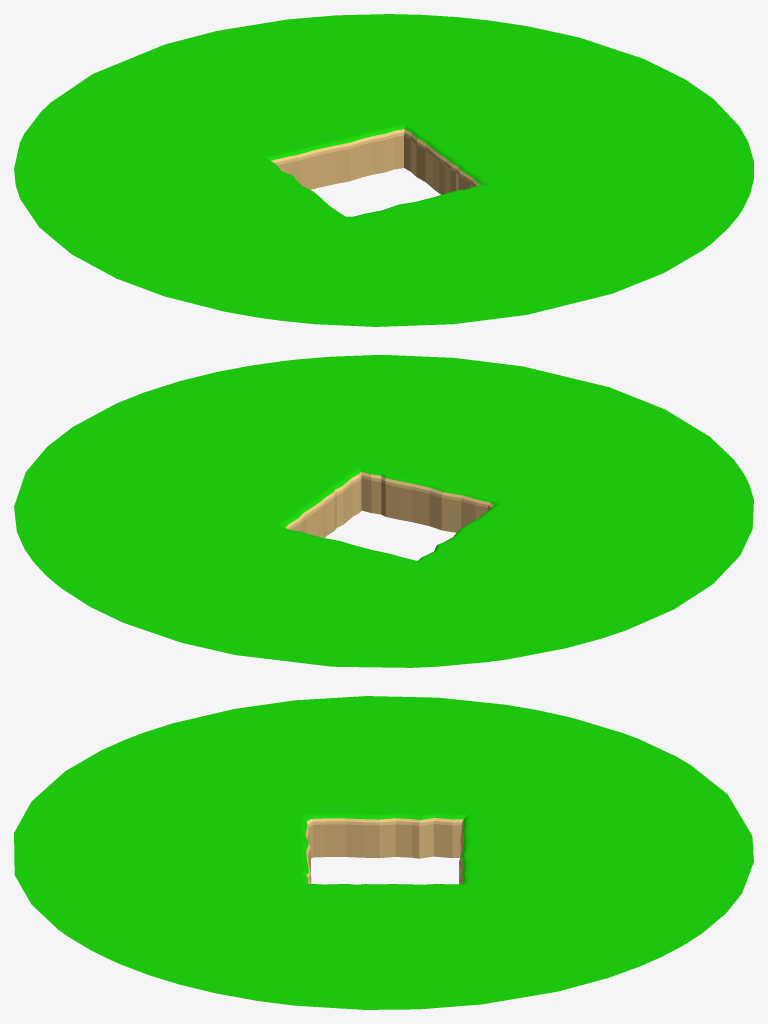
File: Klippen test.fbx
The picture shows the model from 3 angles, top to bottom: view 1: azimuth 30°, elevation 25°; view 2: azimuth 150°, elevation 25°; view 3: azimuth 270°, elevation 25°; orthographic projection.
Visible parts, largest first — view 1: Plane.001; view 2: Plane.001; view 3: Plane.001.
Part boxes in pixels (bbox=[...]): Plane.001: bbox=[14, 14, 753, 326]; Plane.001: bbox=[14, 355, 753, 667]; Plane.001: bbox=[14, 696, 753, 1009].
Bounding box in the file's own units: 94806 × 5600 × 94439.
